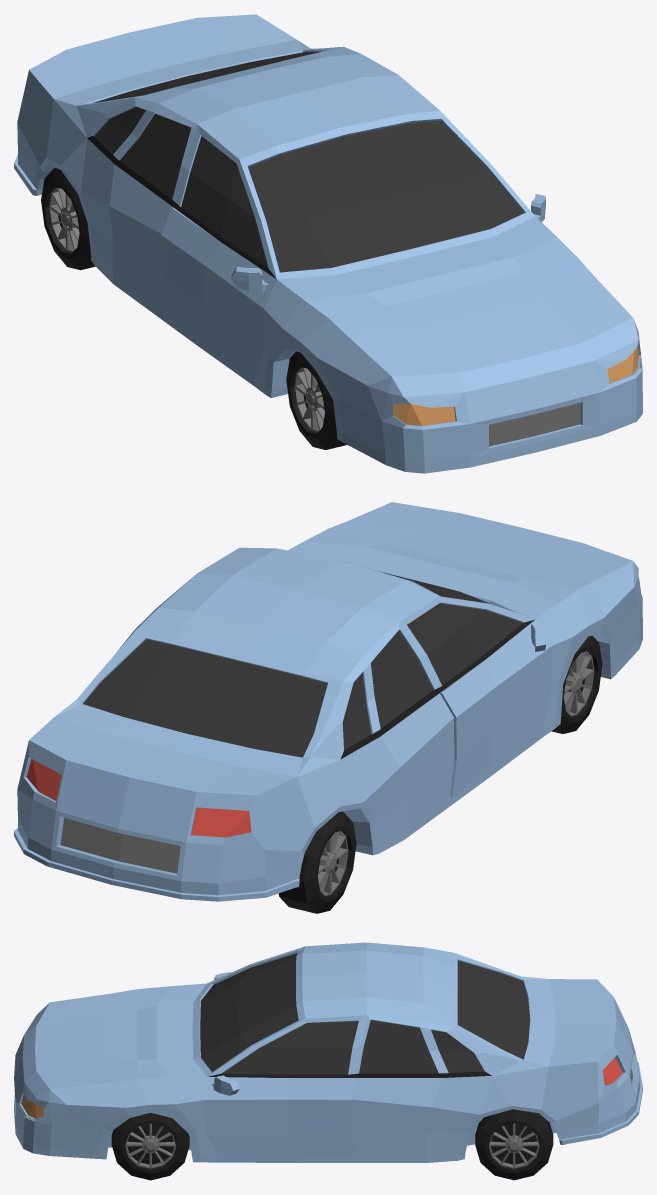
Rendered from NormalCar1.glb.
The picture shows the model from 3 angles, top to bottom: view 1: azimuth 30°, elevation 25°; view 2: azimuth 150°, elevation 25°; view 3: azimuth 270°, elevation 25°; orthographic projection. The views are drawn at different scales.
Visible parts, largest first — view 1: NormalCar1, NormalCar1_BackWheels, NormalCar1_FrontRightWheel; view 2: NormalCar1, NormalCar1_BackWheels, NormalCar1_FrontRightWheel; view 3: NormalCar1, NormalCar1_BackWheels, NormalCar1_FrontLeftWheel.
Boxes of the visible parts, left/top/right/bottom form: NormalCar1: left=14, top=14, right=642, bottom=473; NormalCar1_BackWheels: left=41, top=168, right=95, bottom=270; NormalCar1_FrontRightWheel: left=286, top=351, right=346, bottom=449; NormalCar1: left=14, top=502, right=642, bottom=901; NormalCar1_BackWheels: left=278, top=811, right=356, bottom=913; NormalCar1_FrontRightWheel: left=551, top=635, right=602, bottom=733; NormalCar1: left=14, top=942, right=642, bottom=1162; NormalCar1_BackWheels: left=475, top=1109, right=553, bottom=1180; NormalCar1_FrontLeftWheel: left=111, top=1112, right=189, bottom=1180.
Bounding box in the file's own units: 1.81 × 1.18 × 4.22.
